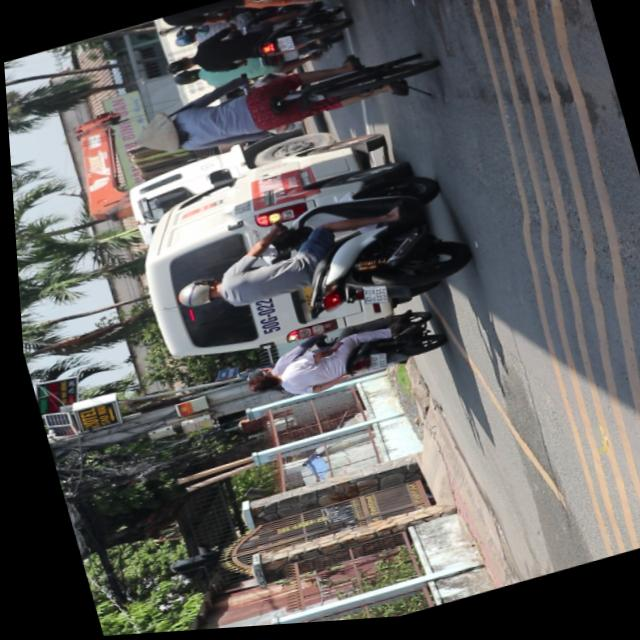helmet: (167, 278, 218, 316)
licenseplate: (149, 160, 474, 360), (228, 306, 448, 416)
motorcyclist: (240, 375, 278, 401), (238, 367, 268, 385)
nohelmet: (356, 286, 385, 310), (361, 356, 383, 377)
